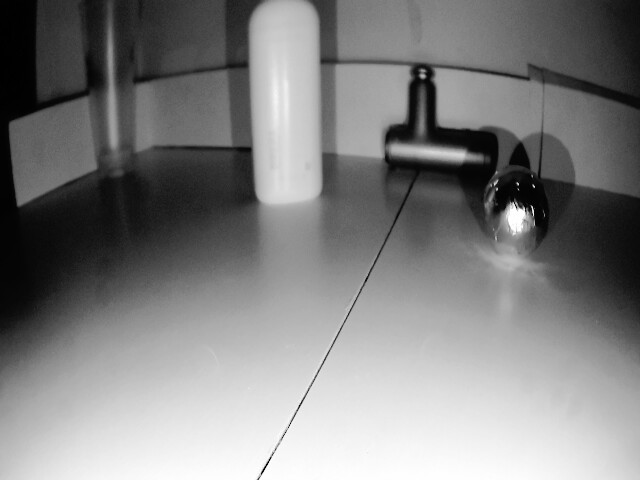silver: (475, 158, 550, 264)
